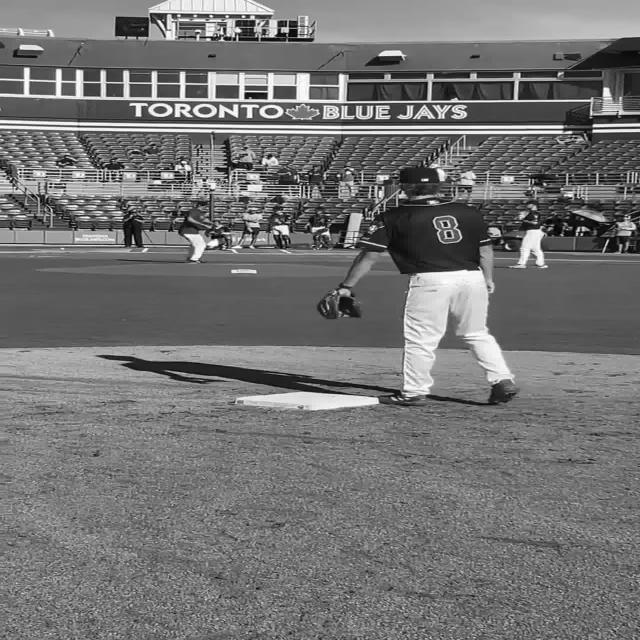base: (234, 392, 386, 410)
baseball_glove: (316, 288, 362, 319)
shoe: (487, 379, 519, 404), (377, 394, 427, 406), (508, 264, 526, 268), (185, 259, 202, 263), (536, 264, 548, 268)
